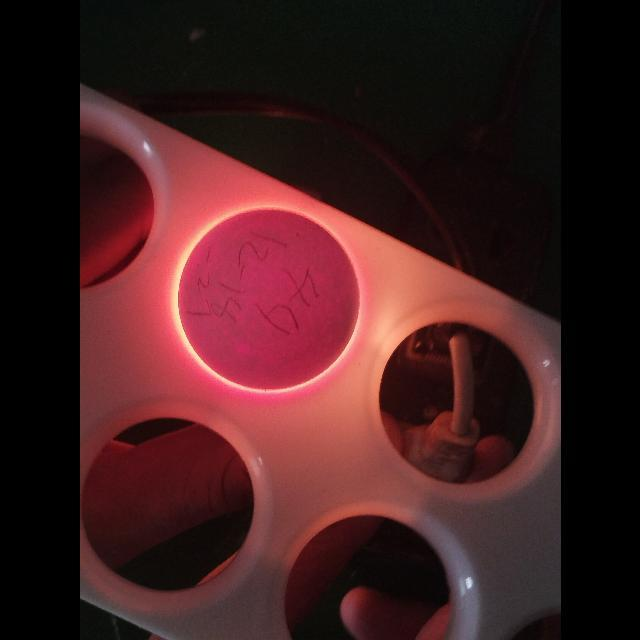Infertile: (175, 206, 362, 394)
